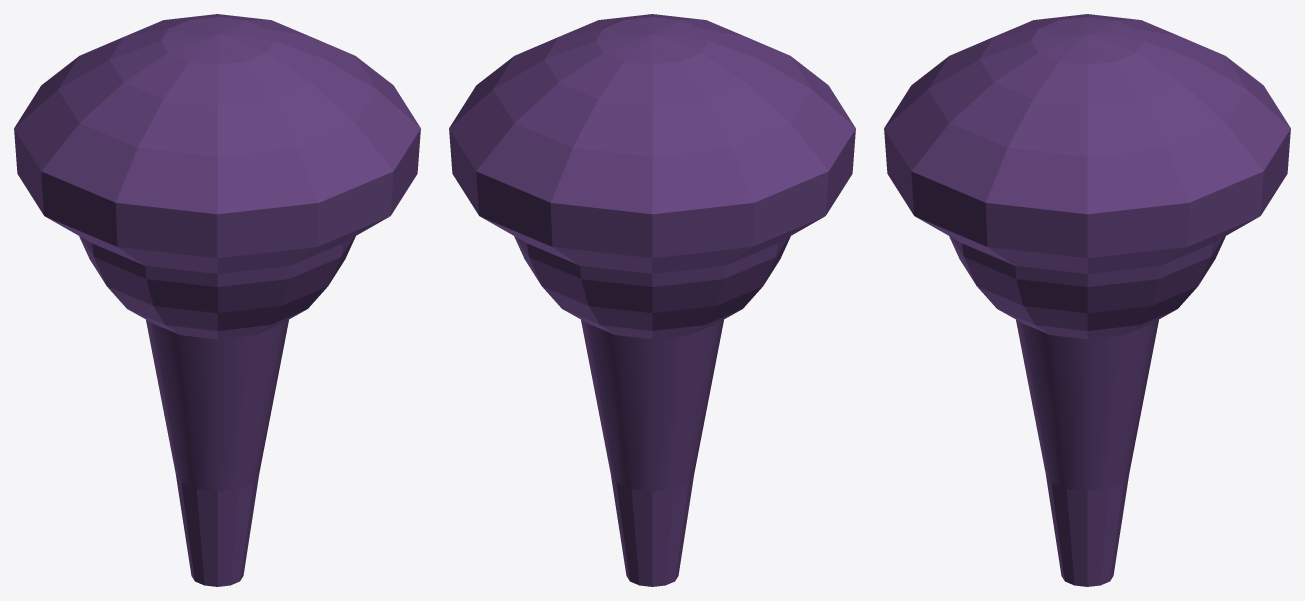
File: PerfumeTop.fbx
The picture shows the model from 3 angles, left to right: view 1: azimuth 30°, elevation 25°; view 2: azimuth 150°, elevation 25°; view 3: azimuth 270°, elevation 25°; orthographic projection.
Visible parts, largest first — view 1: PerfumeTop; view 2: PerfumeTop; view 3: PerfumeTop.
Boxes of the visible parts, x1,y1,x2,y2 form: PerfumeTop: [14, 14, 420, 586]; PerfumeTop: [449, 14, 855, 586]; PerfumeTop: [884, 14, 1290, 586].
Size of the model in its own units: 0.959 by 1.41 by 0.959.
